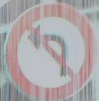Don't turn left: (8, 9, 88, 89)
